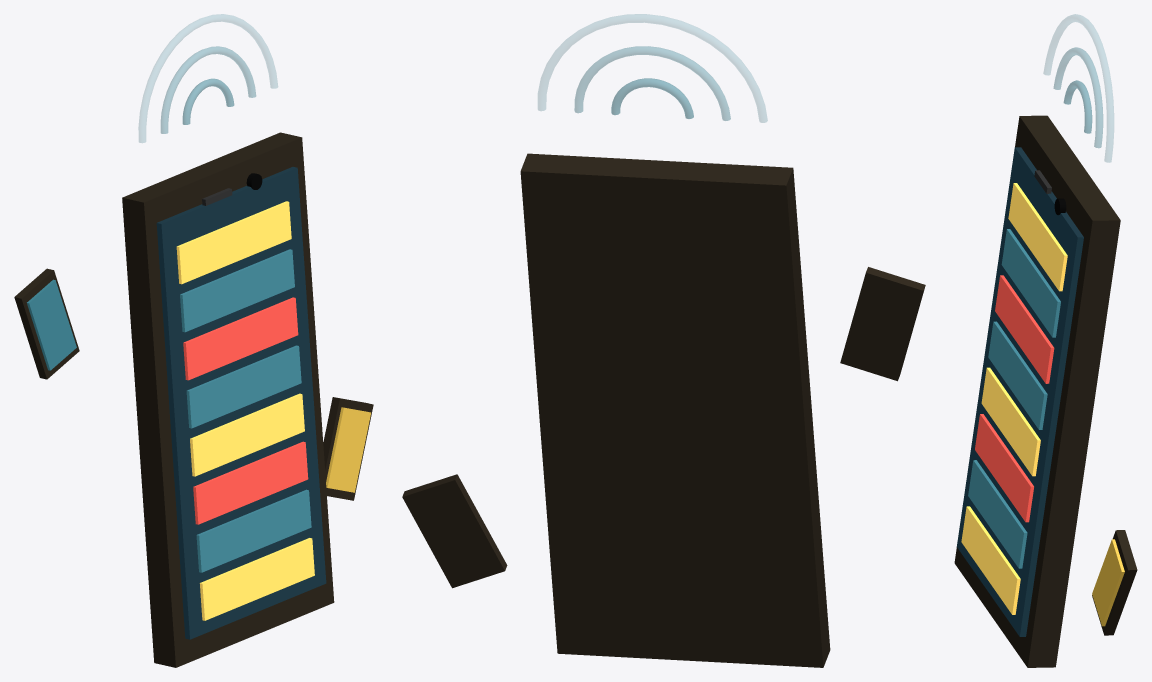
Rendered from smartphone.glb.
3 views of the same model, side by side, from view 1: azimuth 30°, elevation 25°; view 2: azimuth 150°, elevation 25°; view 3: azimuth 270°, elevation 25° (orthographic). The views are drawn at different scales.
Size of the model in its own units: 1.43 by 1.99 by 0.5516.
